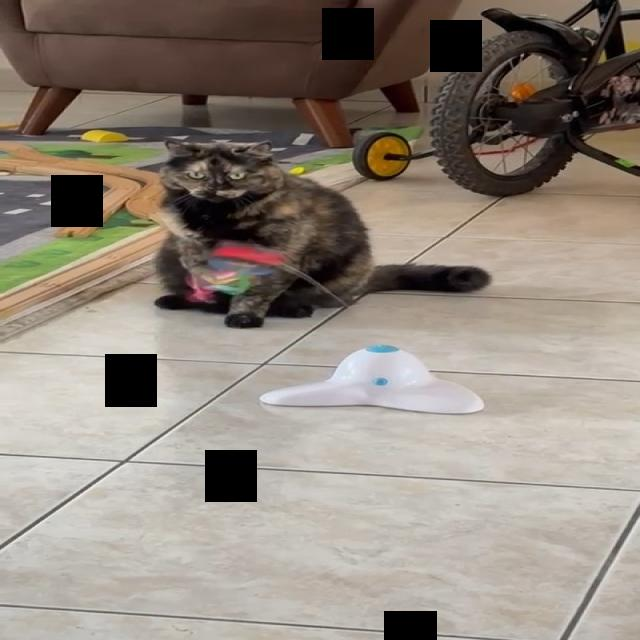authorized: (152, 137, 491, 328)
